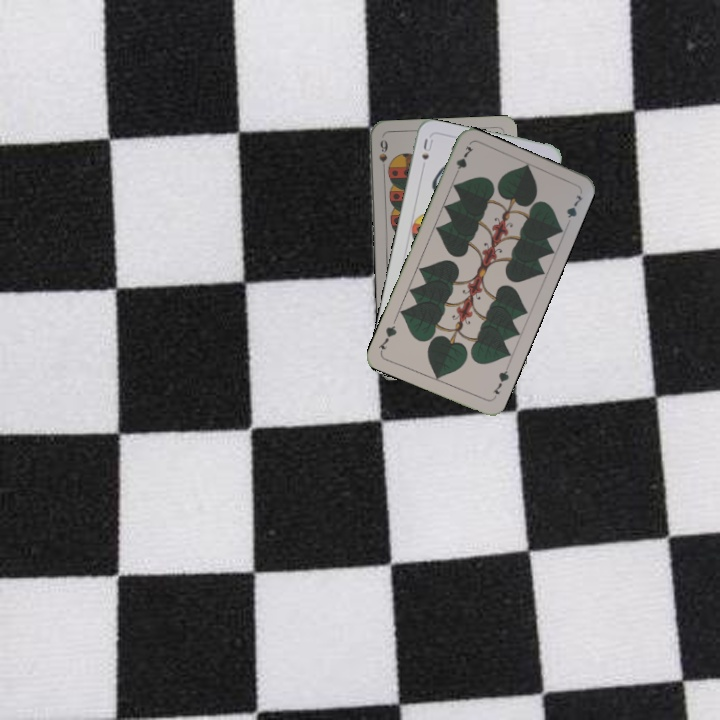G7: (450, 142, 476, 180), (488, 363, 512, 401)
S9: (375, 136, 390, 176)
SU: (417, 134, 436, 162)
